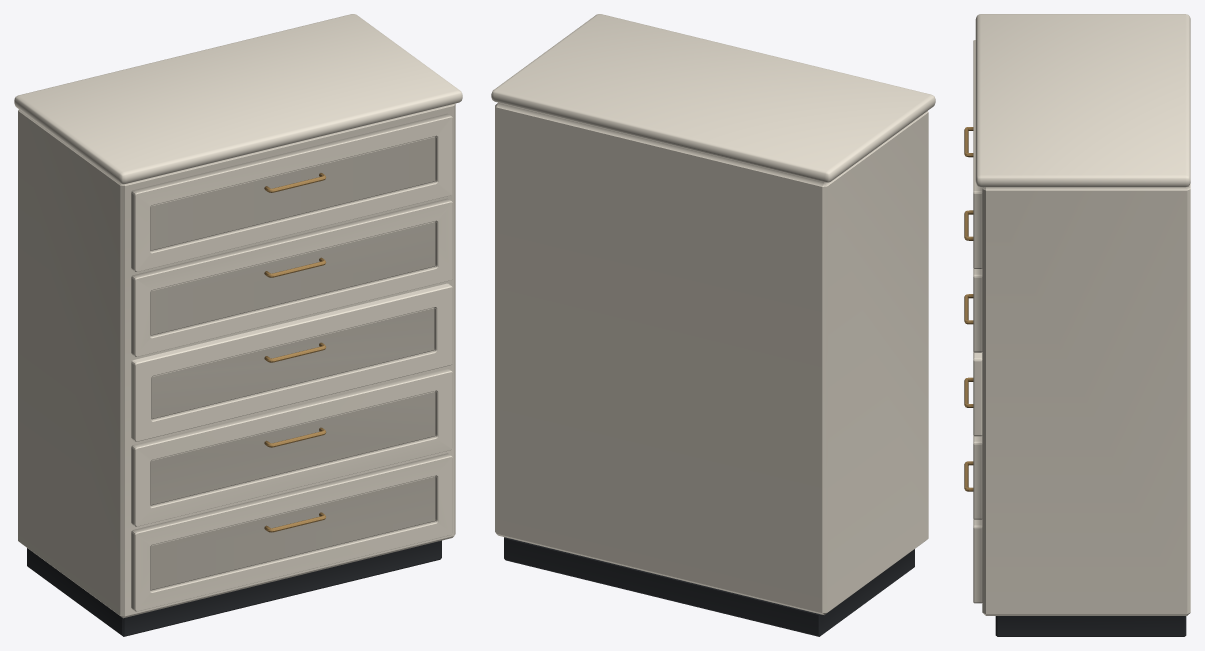
File: chestOfDrawers.glb
3 views of the same model, side by side, from view 1: azimuth 30°, elevation 25°; view 2: azimuth 150°, elevation 25°; view 3: azimuth 270°, elevation 25° (orthographic).
Parts seen in each view (by area): view 1: chestOfDrawers, drawer; view 2: chestOfDrawers; view 3: chestOfDrawers, drawer.
Part boxes in pixels (x1=…): chestOfDrawers: x1=14, y1=14, x2=462, y2=636; drawer: x1=131, y1=283, x2=452, y2=441; chestOfDrawers: x1=491, y1=14, x2=935, y2=636; chestOfDrawers: x1=964, y1=14, x2=1190, y2=636; drawer: x1=964, y1=294, x2=982, y2=436.
Bounding box in the file's own units: 0.88 × 1.16 × 0.511.
